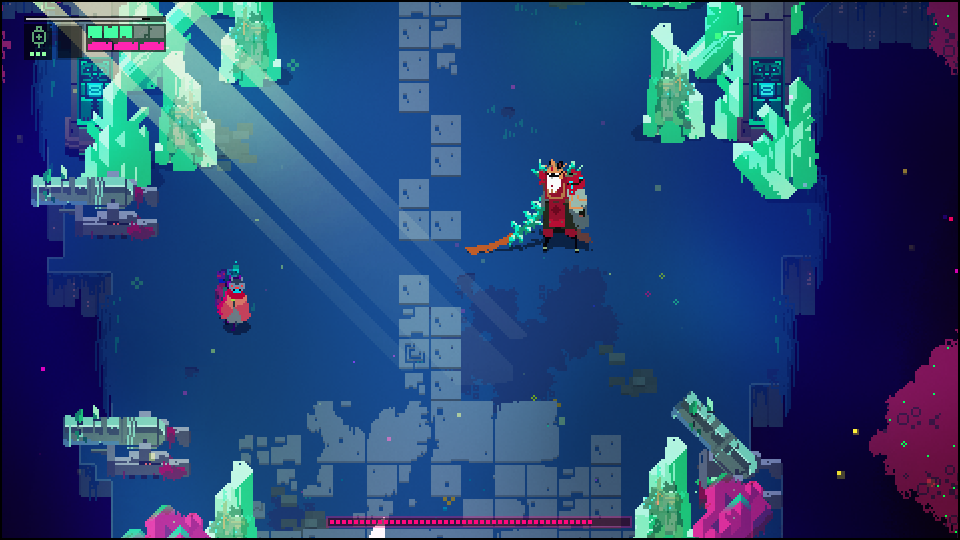hanged_man: (500, 157, 597, 255)
player: (216, 274, 254, 334)
